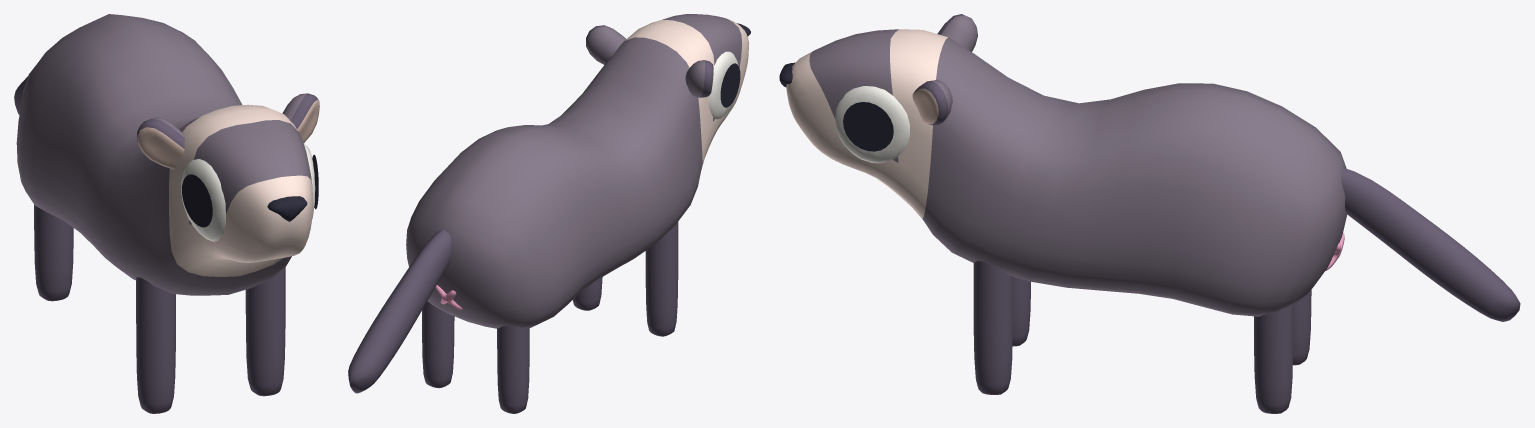
File: Ferret.glb
3 renders of one model, left to right at view 1: azimuth 30°, elevation 25°; view 2: azimuth 150°, elevation 25°; view 3: azimuth 270°, elevation 25°, orthographic. The views are drawn at different scales.
Visible parts, largest first — view 1: Ferret; view 2: Ferret; view 3: Ferret.
Boxes of the visible parts, bbox=[...] form: Ferret: bbox=[14, 14, 319, 413]; Ferret: bbox=[348, 14, 750, 413]; Ferret: bbox=[779, 14, 1520, 413].
Size of the model in its own units: 0.8756 by 1.26 by 2.64.
Materials: 1 (1 with a texture image).
